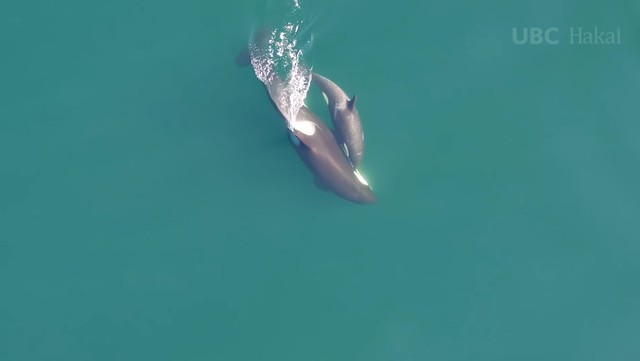whale: (227, 23, 386, 211), (287, 53, 372, 173)
